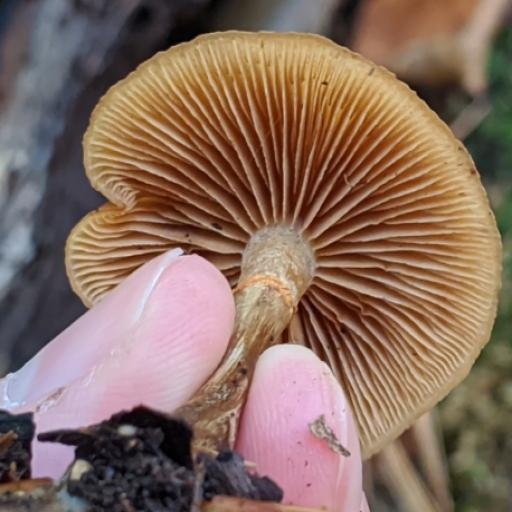mushroom: (50, 23, 505, 416)
